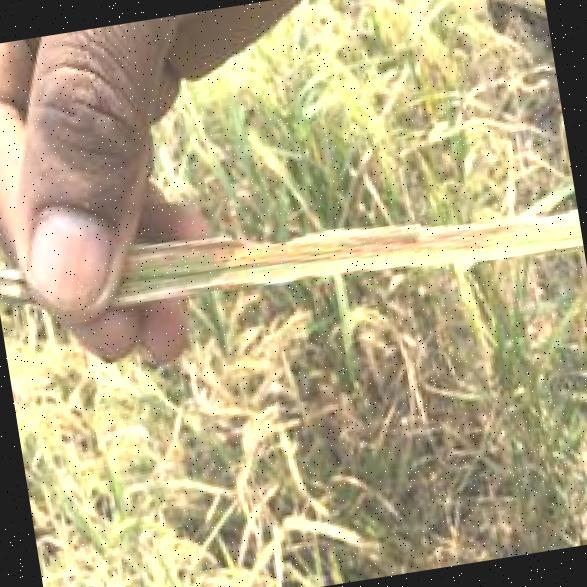Bacteria_Leaf_Blight: (111, 163, 568, 354)
